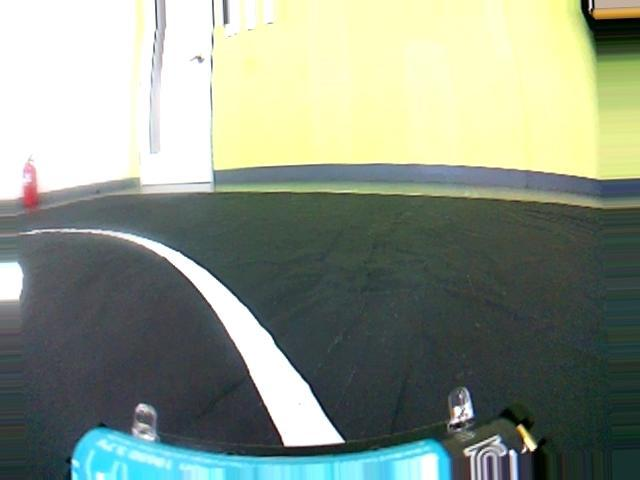left: (0, 237, 568, 474)
